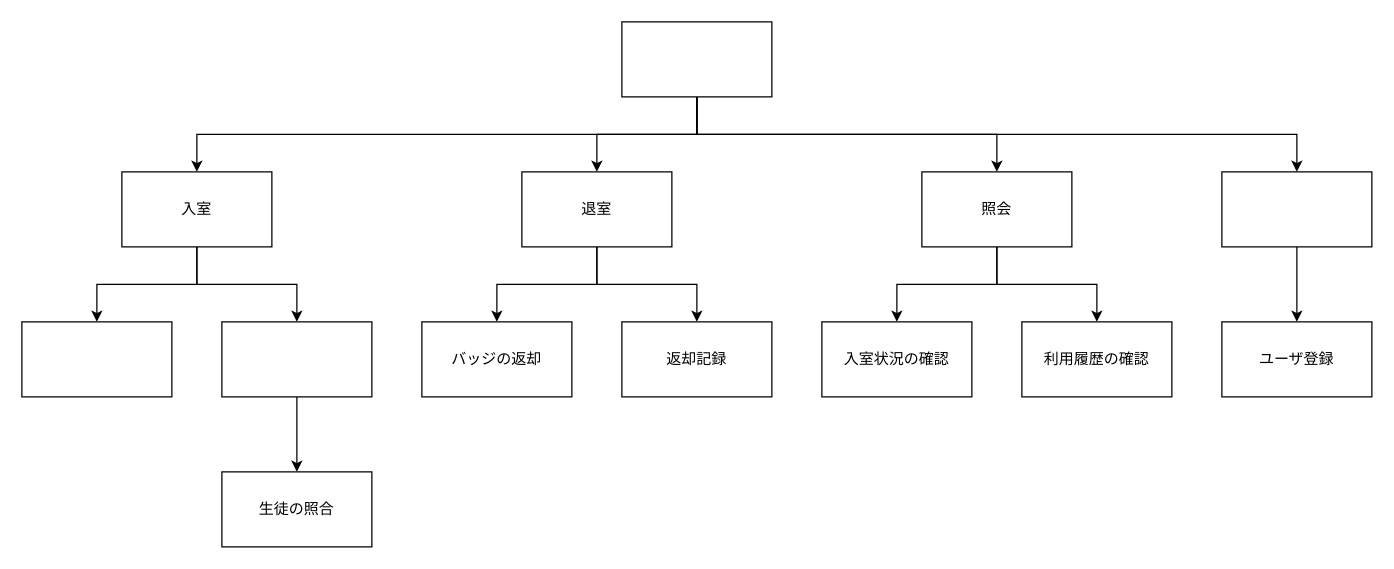
The diagram is 1394 pixels wide and 569 high, and some of its shapes have lost their labels. The shapes that lost their labels are listed below. From the top down, each one's box as (x1, y1, x2, y2) in pixels, then its label:
(621, 21, 772, 97): WEM2 システム
(1221, 171, 1372, 247): 管理
(21, 321, 172, 397): バッジの貸出
(221, 321, 372, 397): 貸出記録
